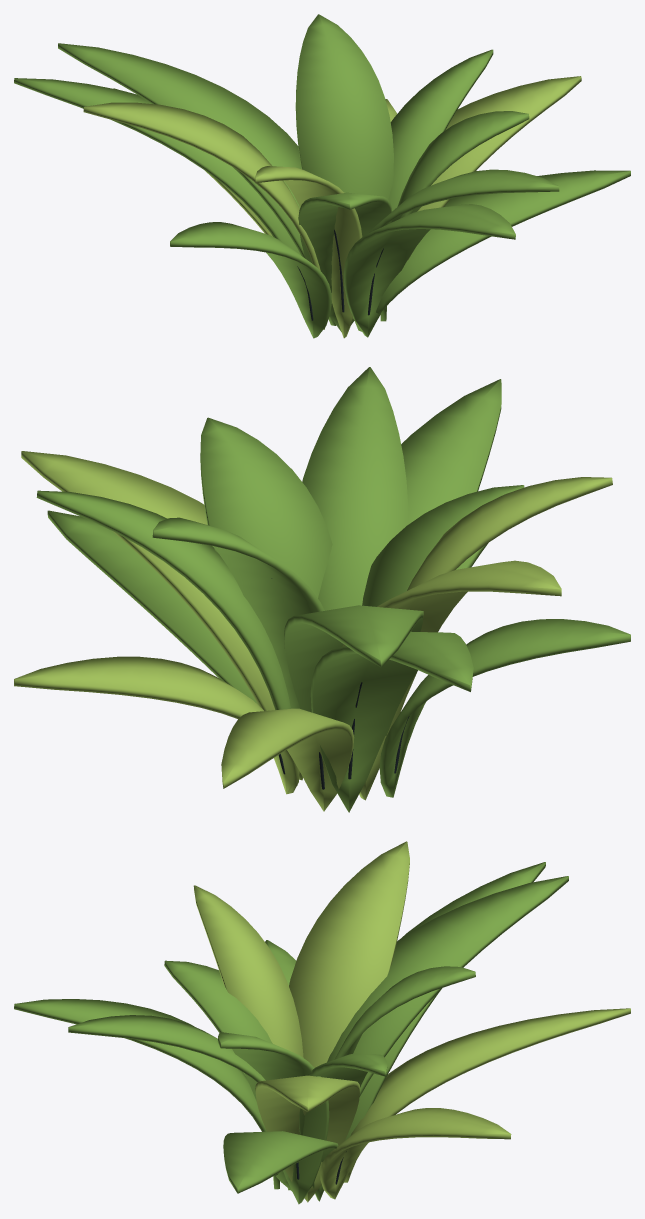
Rendered from frontier_grass.glb.
3 renders of one model, top to bottom at view 1: azimuth 30°, elevation 25°; view 2: azimuth 150°, elevation 25°; view 3: azimuth 270°, elevation 25°, orthographic. The views are drawn at different scales.
Visible parts, largest first — view 1: Broad grass blade.001, Broad grass blade, Drawn central leaf vein; view 2: Broad grass blade.001, Broad grass blade; view 3: Broad grass blade, Broad grass blade.001.
Part boxes in pixels (left/top/right/bottom): Broad grass blade.001: left=14, top=14, right=630, bottom=338; Broad grass blade: left=83, top=76, right=581, bottom=338; Drawn central leaf vein: left=297, top=229, right=383, bottom=320; Broad grass blade.001: left=36, top=367, right=630, bottom=812; Broad grass blade: left=14, top=451, right=612, bottom=811; Broad grass blade: left=193, top=841, right=630, bottom=1202; Broad grass blade.001: left=14, top=862, right=568, bottom=1204.
Size of the model in its own units: 1.73 by 0.8481 by 1.96.
